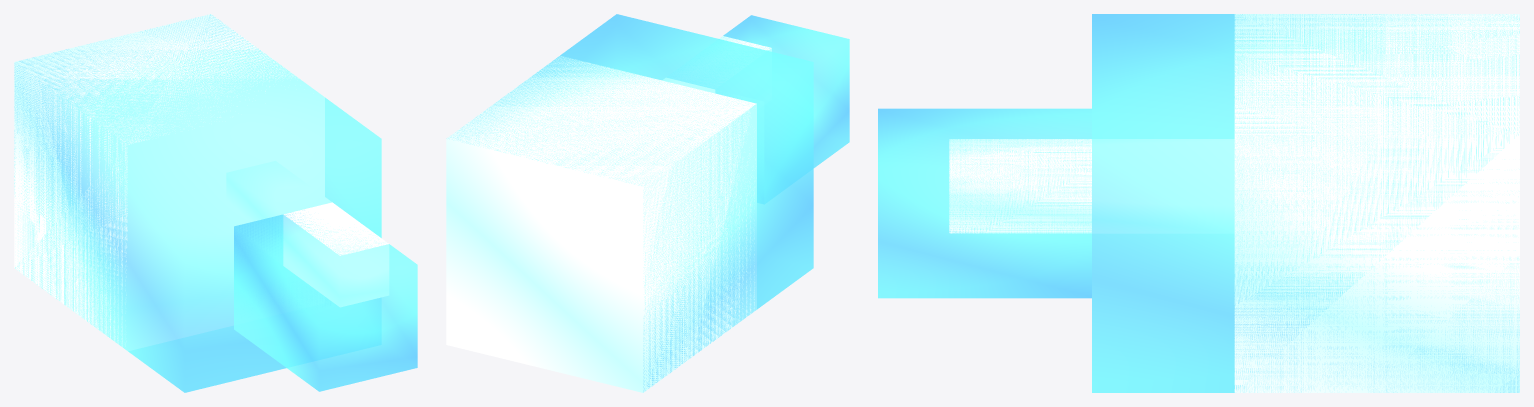
The model's file is thruster-glow.glb.
3 views of the same model, side by side, from view 1: azimuth 30°, elevation 25°; view 2: azimuth 150°, elevation 25°; view 3: azimuth 270°, elevation 25° (orthographic). The views are drawn at different scales.
Parts seen in each view (by area): view 1: layer.glow, layer.core; view 2: layer.core, layer.glow; view 3: layer.core, layer.glow.
Part boxes in pixels (x1,y1,x2,y2): layer.glow: (14,14,417,392); layer.core: (14,14,388,350); layer.core: (446,36,771,392); layer.glow: (448,14,849,391); layer.core: (949,14,1519,392); layer.glow: (878,14,1519,392).
Bounding box in the file's own units: 0.125 × 0.125 × 0.2812.
